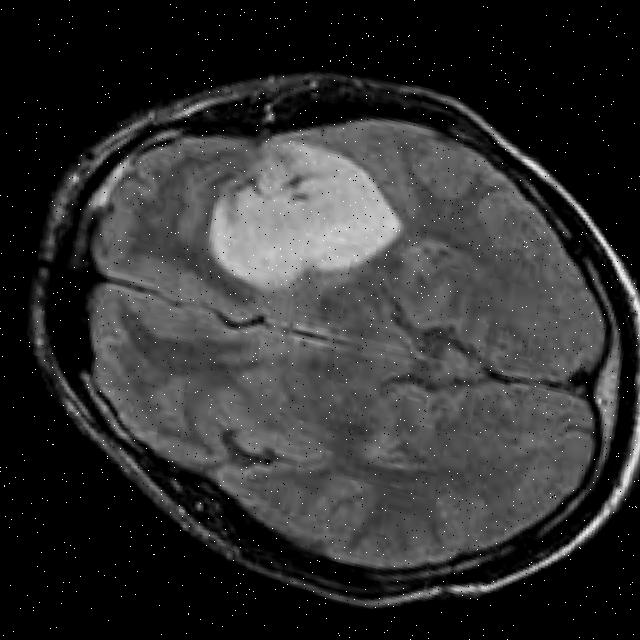Meningioma: (192, 113, 422, 325)
